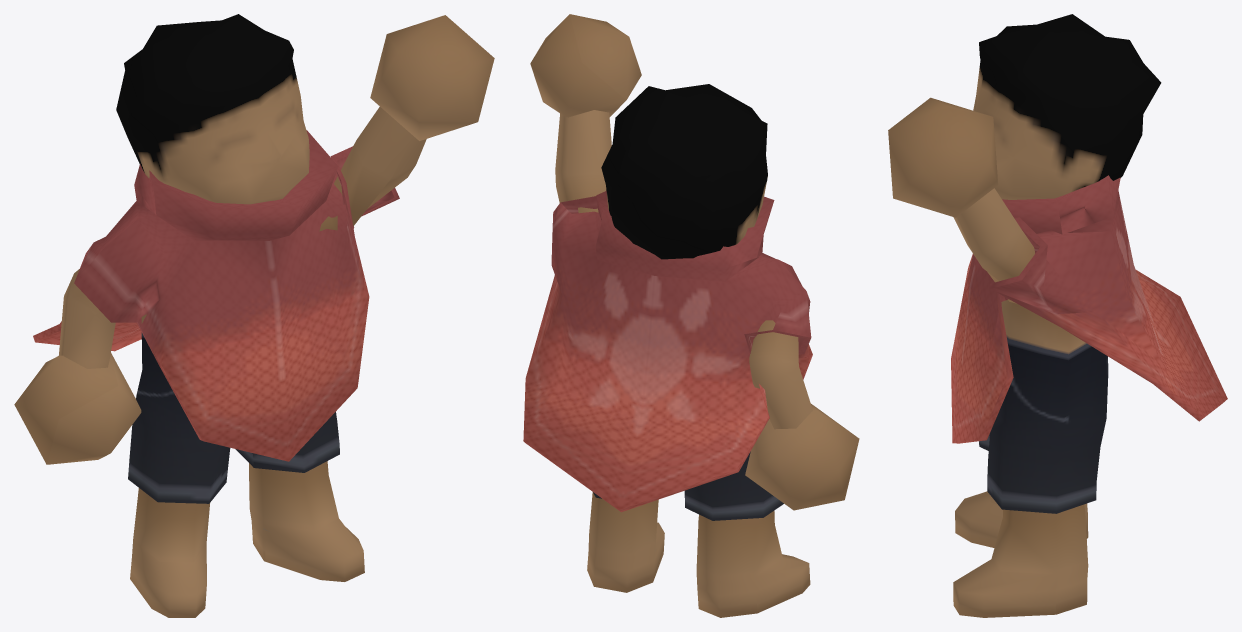
The model's file is SM_Allen_WelcomePose.glb.
3 renders of one model, left to right at view 1: azimuth 30°, elevation 25°; view 2: azimuth 150°, elevation 25°; view 3: azimuth 270°, elevation 25°, orthographic. The views are drawn at different scales.
Parts seen in each view (by area): view 1: Welcome_Pose; view 2: Welcome_Pose; view 3: Welcome_Pose.
Part boxes in pixels (<box>): Welcome_Pose: <box>14,14,494,617</box>; Welcome_Pose: <box>523,14,859,617</box>; Welcome_Pose: <box>888,14,1227,617</box>.
Bounding box in the file's own units: 1.1 × 1.44 × 0.8095.
Materials: 1 (1 with a texture image).
